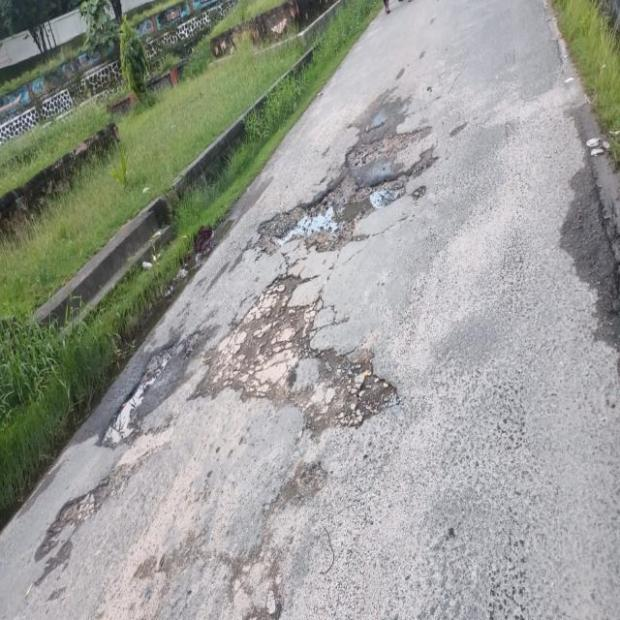lubang: (197, 274, 396, 431), (261, 98, 437, 252), (35, 467, 127, 561), (103, 353, 170, 445)
